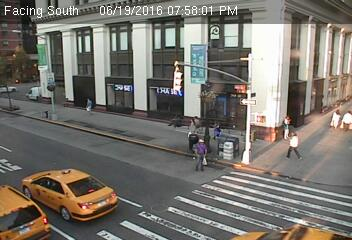neg: (122, 36, 148, 71), (42, 80, 61, 105), (26, 90, 44, 115), (73, 40, 89, 61), (39, 40, 54, 60), (228, 68, 242, 87), (21, 61, 31, 75)
pos: (189, 139, 212, 171), (283, 129, 306, 160), (280, 114, 298, 138), (209, 119, 226, 142), (328, 107, 344, 129), (185, 117, 201, 138), (340, 107, 351, 132), (81, 98, 95, 117)
